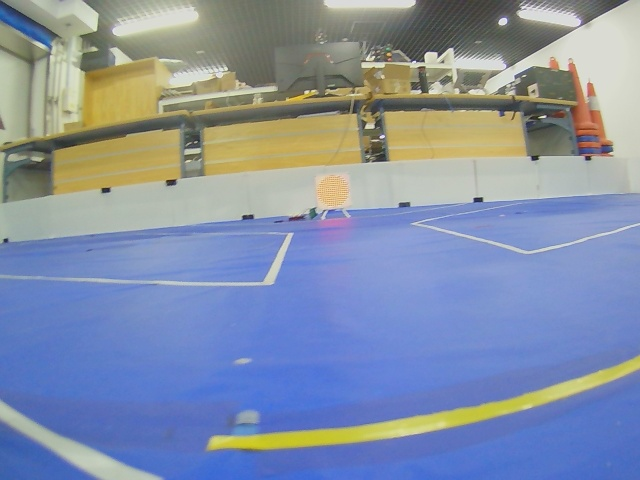red: (316, 174, 351, 210)
